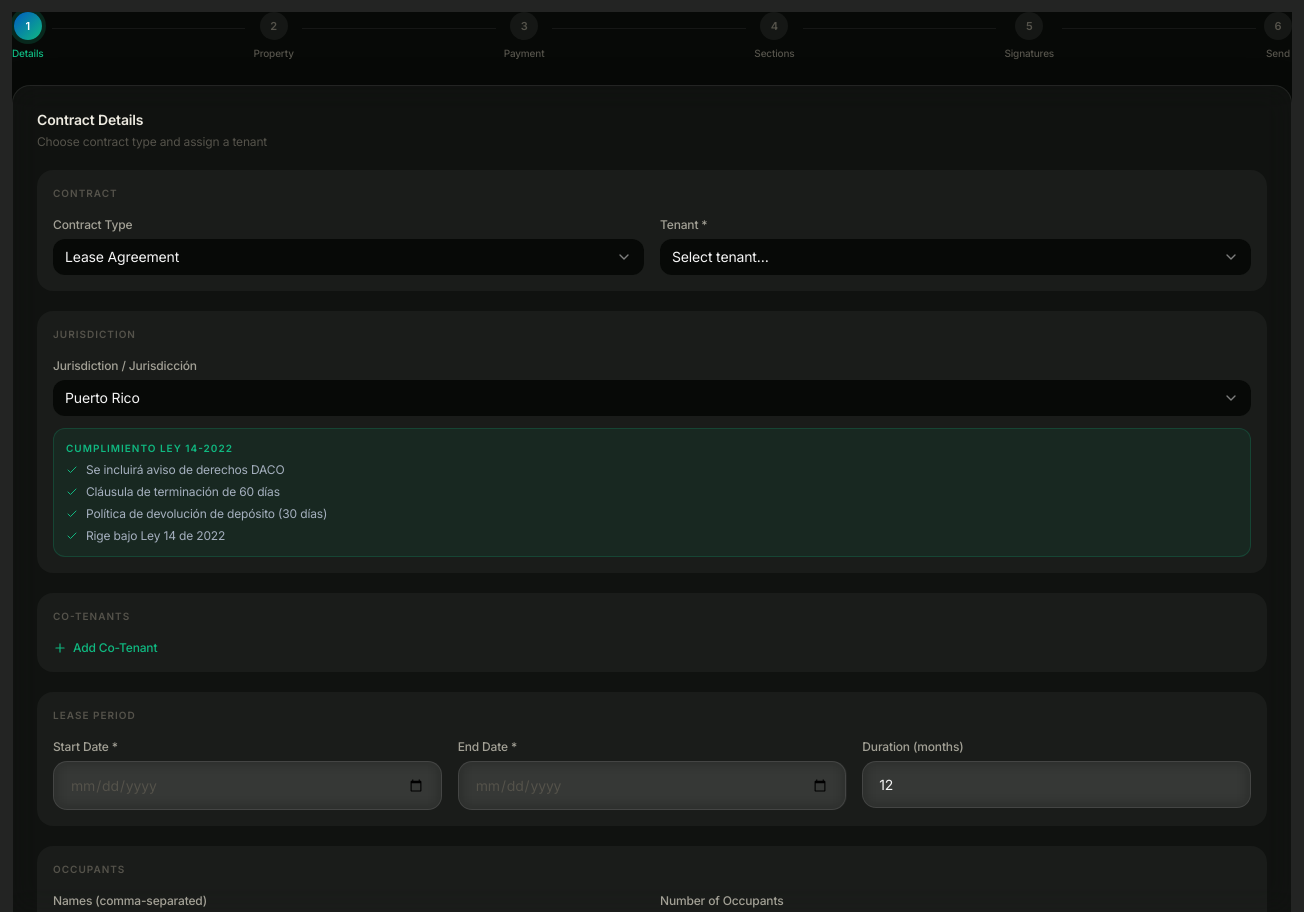
Test case: ContractBuilder step 3 (Signatures) › renders signature pads for landlord and tenant
Step 1. Click the button "5 Signatures" → [1029, 36], box [1004,12,1054,61]
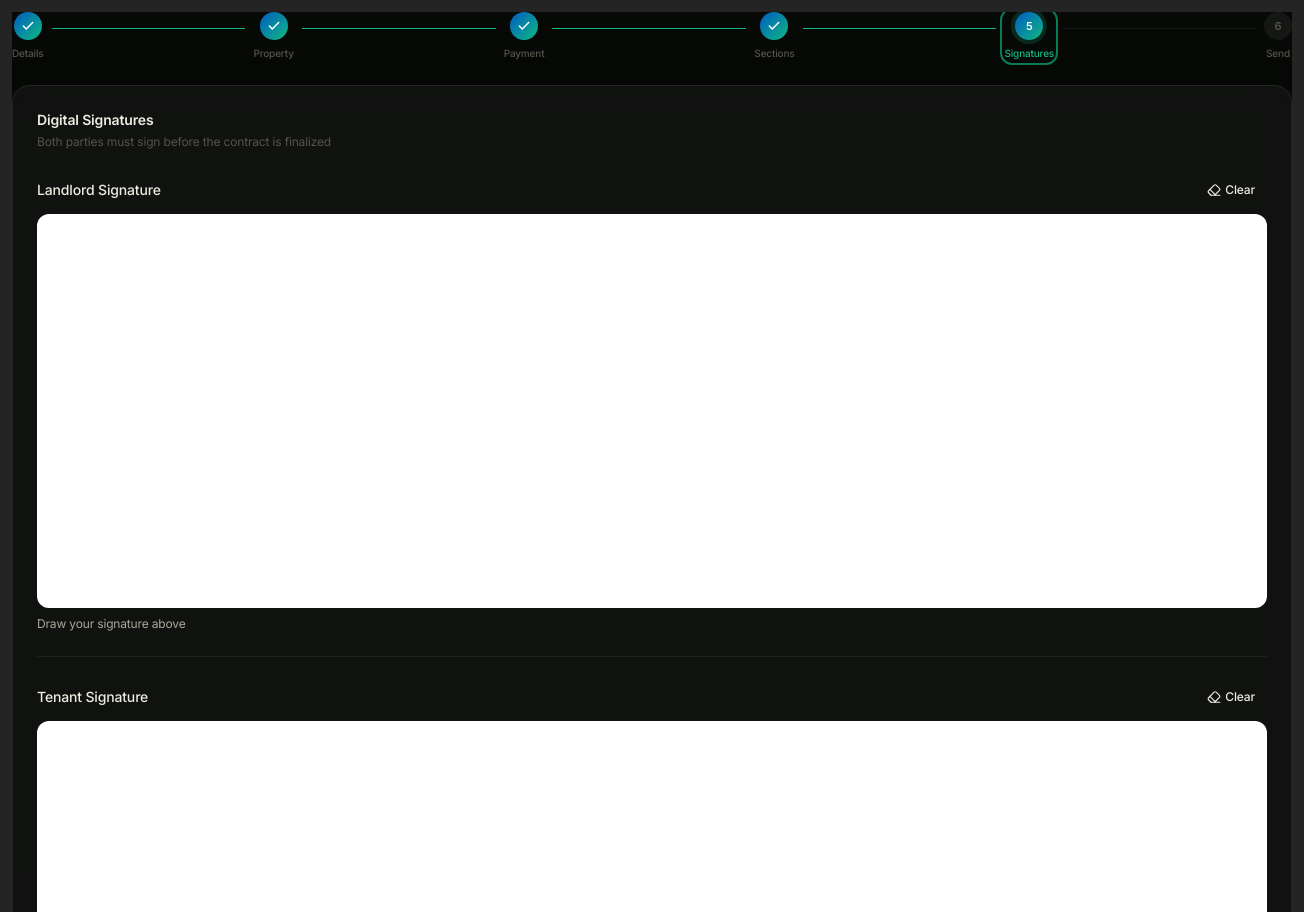
Now the text "Landlord Signature" is shown, box [37,180,161,200]
Now the text "Tenant Signature" is shown, box [37,687,148,707]
